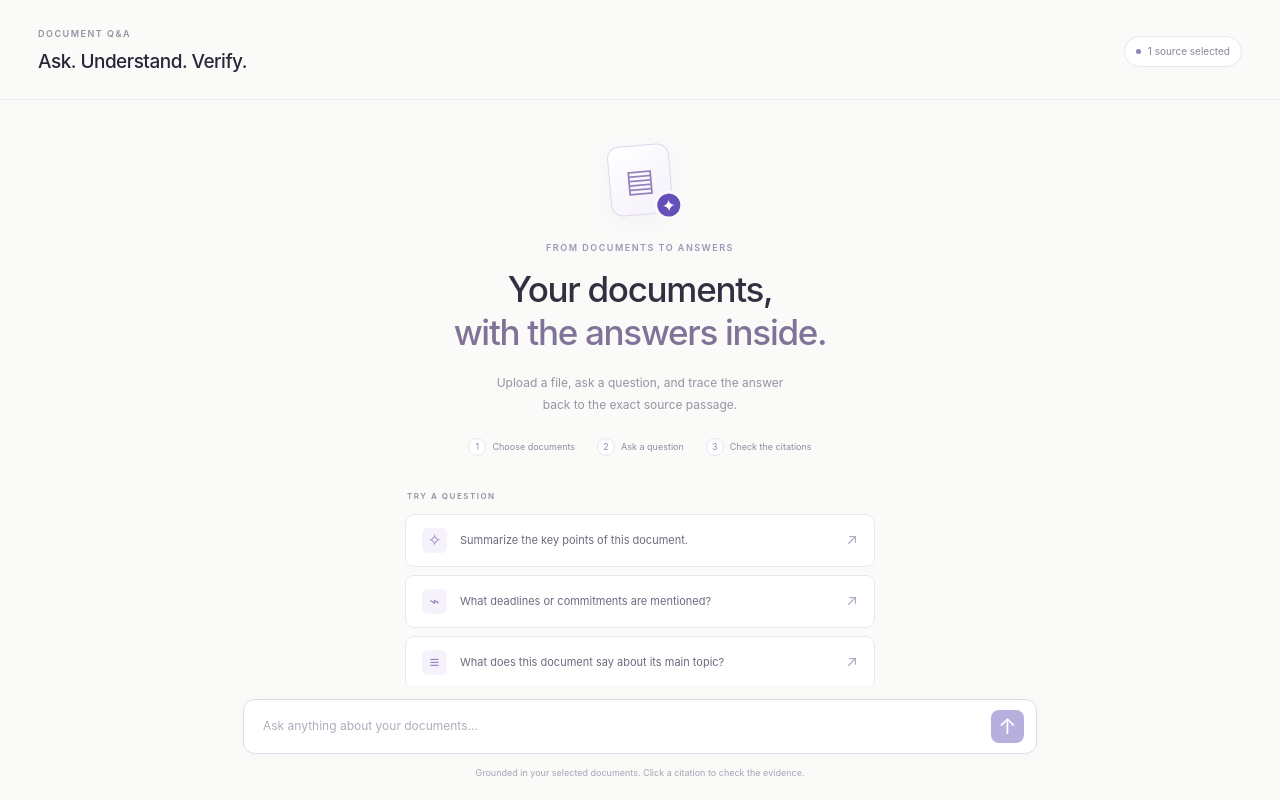
Scenario: document chat › keeps the answer and shows an explicit interruption if the stream closes early
Type "Summarize" into the text box at (622, 726), box [263,711,981,741]
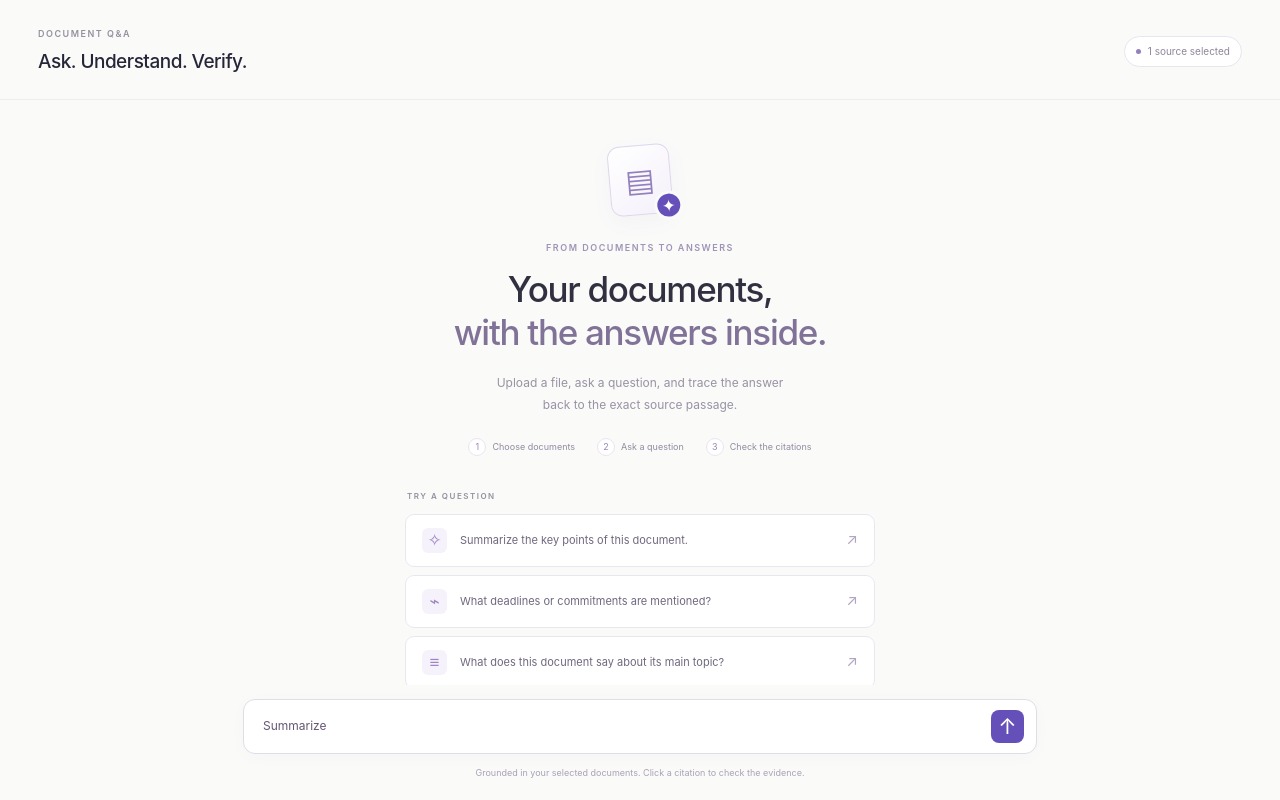
Click the button named "Send question" at (1008, 726), box [991,710,1024,742]
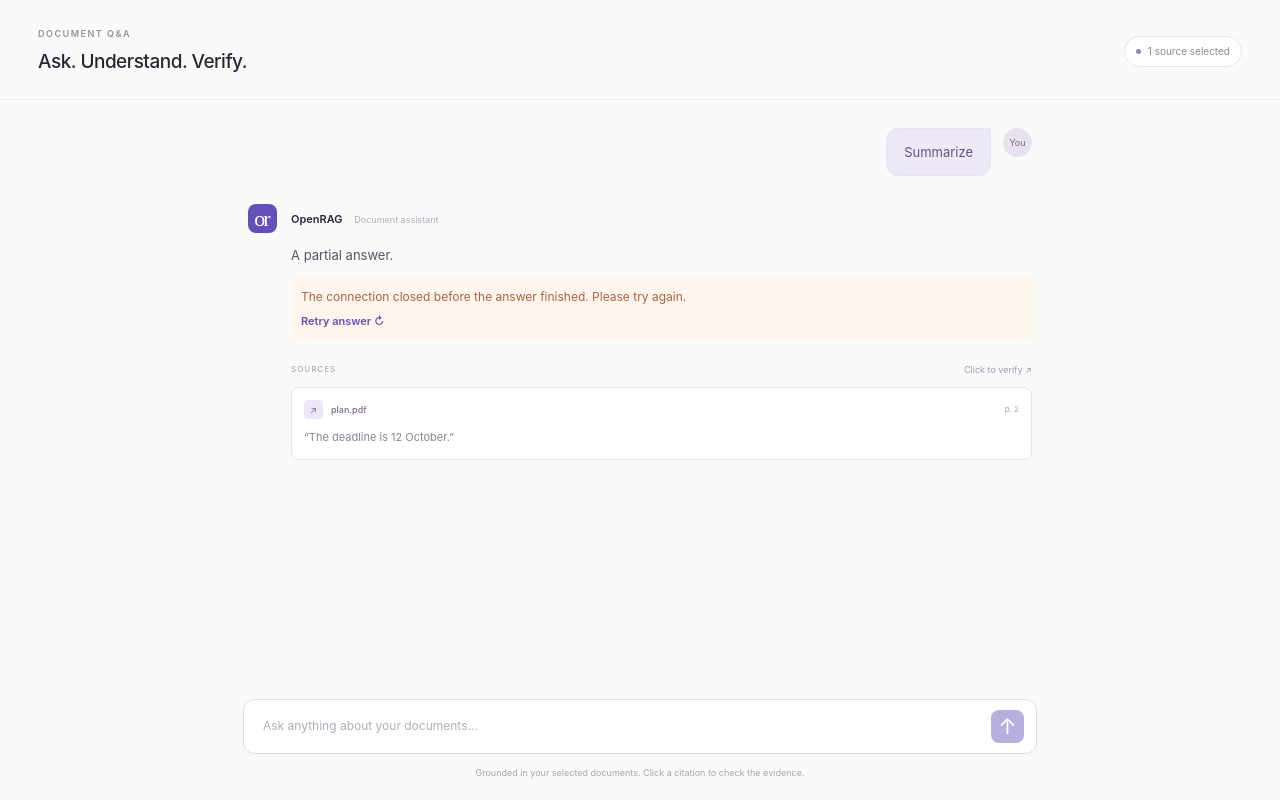
Expected: the message shows "connection closed", [301,289,686,304]
Expected: the text "A partial answer." is shown, [291,247,393,263]
